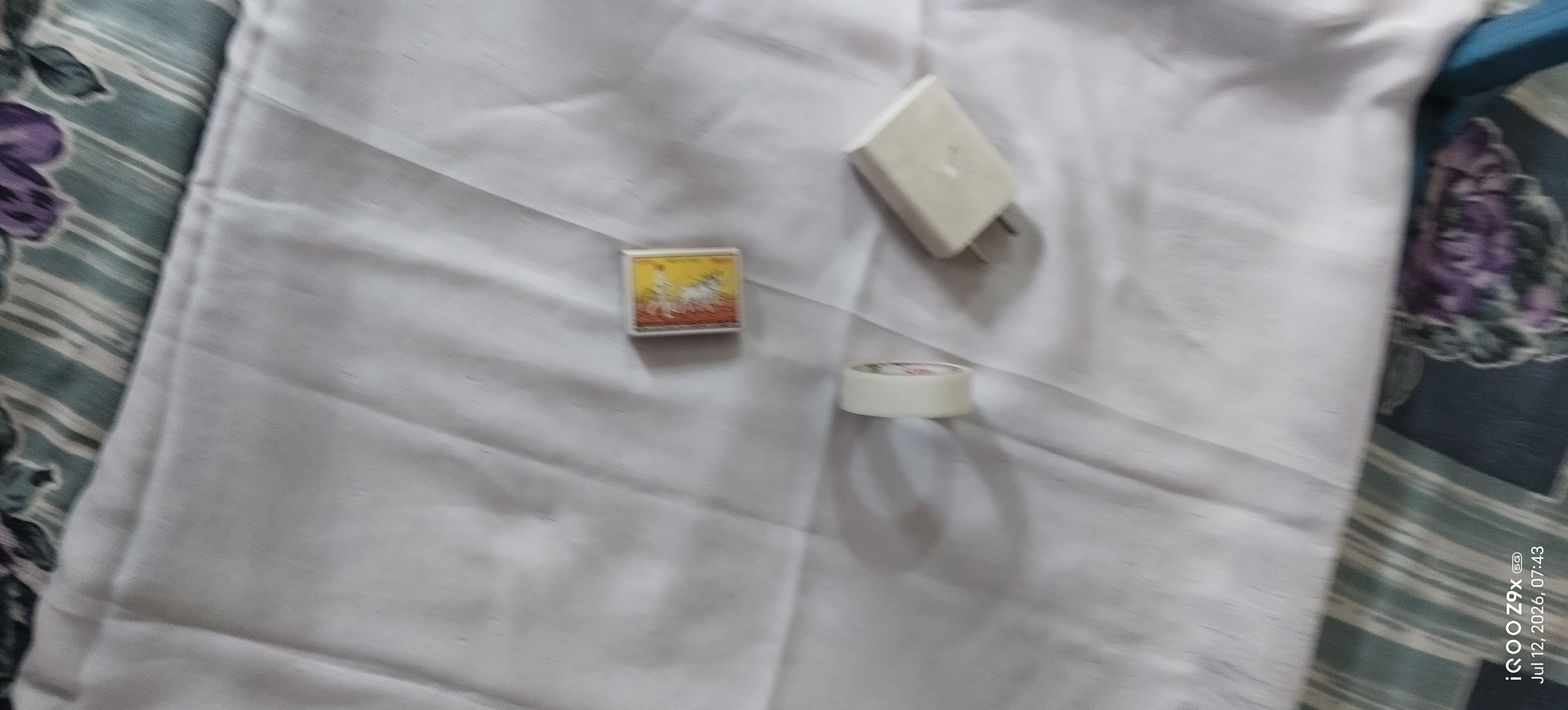charger: (824, 64, 1052, 283)
matchbox: (611, 232, 757, 361)
tape_roll: (823, 346, 998, 442)
